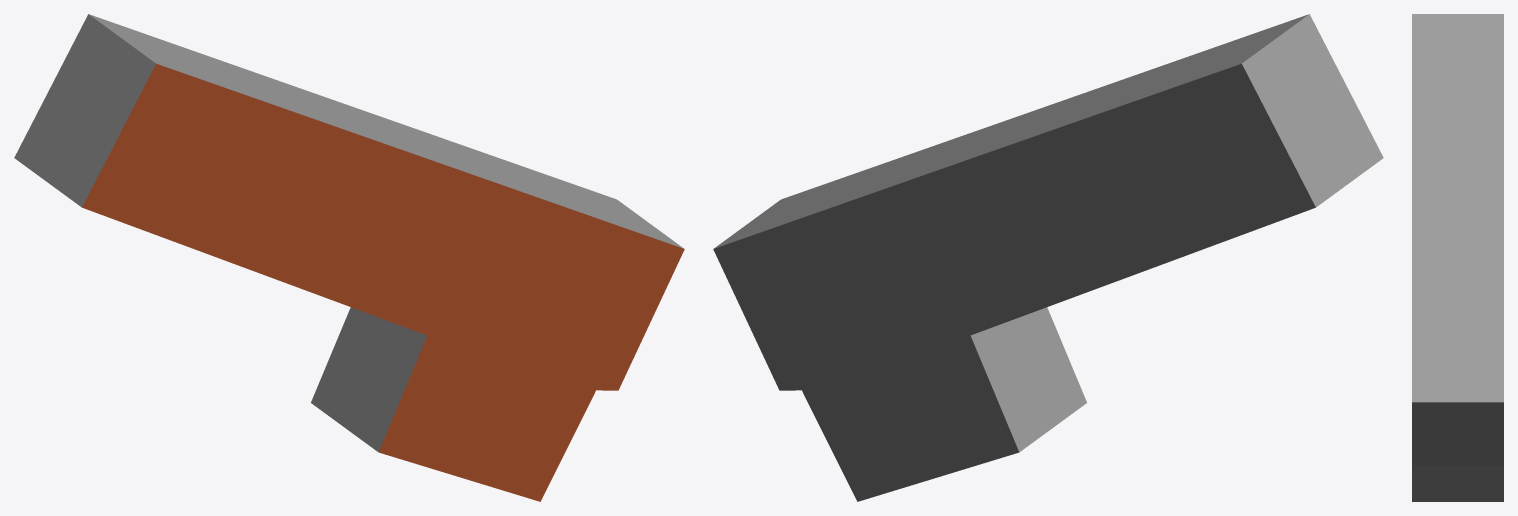
The model's file is construction_1168_assumed_A_Casa_h6m.obj.
3 views of the same model, side by side, from view 1: azimuth 30°, elevation 25°; view 2: azimuth 150°, elevation 25°; view 3: azimuth 270°, elevation 25° (orthographic). The views are drawn at different scales.
Parts seen in each view (by area): view 1: construction_1168_assumed_A_Casa; view 2: construction_1168_assumed_A_Casa; view 3: construction_1168_assumed_A_Casa.
Part boxes in pixels (x1,y1,x2,y2): construction_1168_assumed_A_Casa: (14,14,684,501); construction_1168_assumed_A_Casa: (713,14,1383,501); construction_1168_assumed_A_Casa: (1412,14,1503,501).
Size of the model in its own units: 30.79 by 25.97 by 6.
